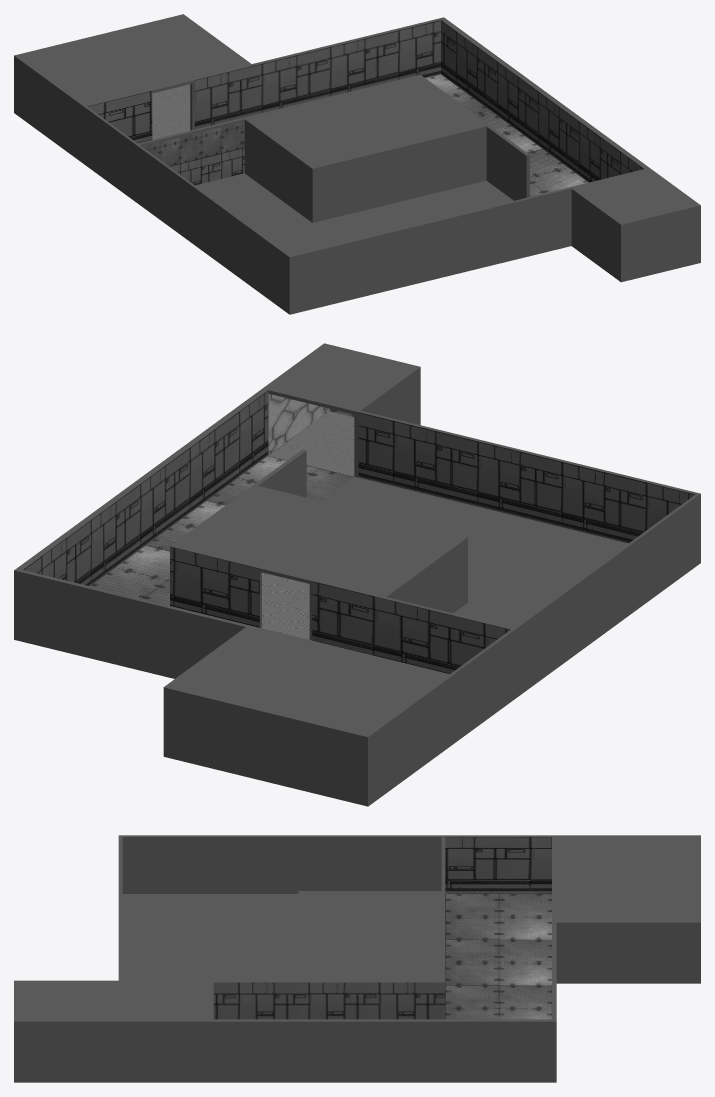
File: level1.fbx
3 views of the same model, one above another, from view 1: azimuth 30°, elevation 25°; view 2: azimuth 150°, elevation 25°; view 3: azimuth 270°, elevation 25° (orthographic). The views are drawn at different scales.
Parts seen in each view (by area): view 1: pCube2; view 2: pCube2; view 3: pCube2.
Part boxes in pixels (x1,y1,x2,y2): pCube2: (14, 14, 700, 314); pCube2: (14, 343, 700, 806); pCube2: (14, 835, 700, 1082).
Size of the model in its own units: 29.7 by 4.51 by 46.28.
